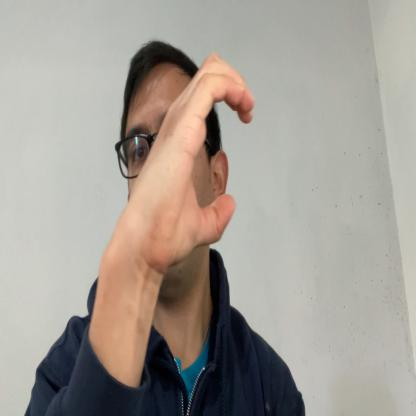C: (158, 53, 256, 267)
